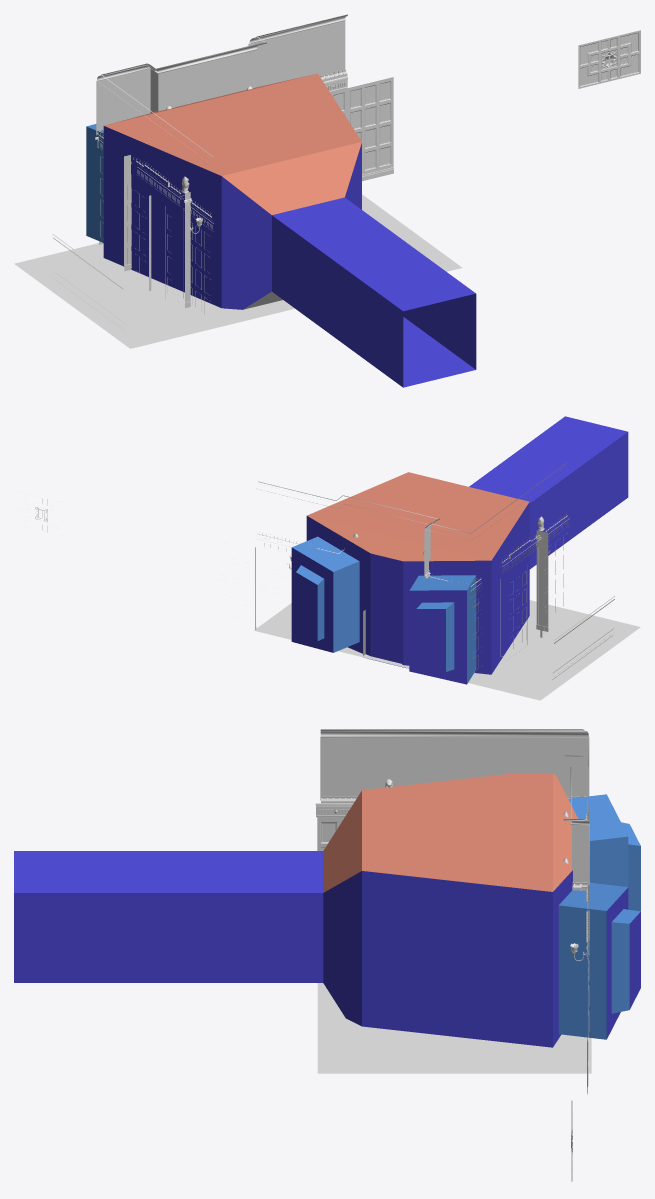
File: about2_000.glb
The picture shows the model from 3 angles, top to bottom: view 1: azimuth 30°, elevation 25°; view 2: azimuth 150°, elevation 25°; view 3: azimuth 270°, elevation 25°; orthographic projection. The views are drawn at different scales.
Visible parts, largest first — view 1: Cube, Plane.011, Wallpaper, Plane, Template.002, Wallpaper.001, Plane.016, Plane.015, Template.001; view 2: Cube, Plane.011, Plane.015, Wallpaper.001, Template.001; view 3: Cube, Wallpaper, Plane.011, Wallpaper.001.
Boxes of the visible parts, x1,y1,x2,y2 form: Cube: [86, 73, 476, 387]; Plane.011: [14, 194, 462, 348]; Wallpaper: [96, 20, 345, 135]; Plane: [330, 77, 393, 181]; Template.002: [578, 30, 640, 88]; Wallpaper.001: [96, 14, 347, 163]; Plane.016: [124, 155, 131, 271]; Plane.015: [179, 192, 190, 308]; Template.001: [127, 185, 173, 305]; Cube: [291, 416, 628, 684]; Plane.011: [254, 600, 640, 700]; Plane.015: [536, 530, 548, 631]; Wallpaper.001: [256, 463, 567, 540]; Template.001: [506, 555, 546, 660]; Cube: [14, 773, 640, 1047]; Wallpaper: [320, 737, 589, 884]; Plane.011: [317, 983, 591, 1073]; Wallpaper.001: [320, 729, 589, 878].
Bounding box in the file's own units: 40.78 × 11.73 × 30.41.
